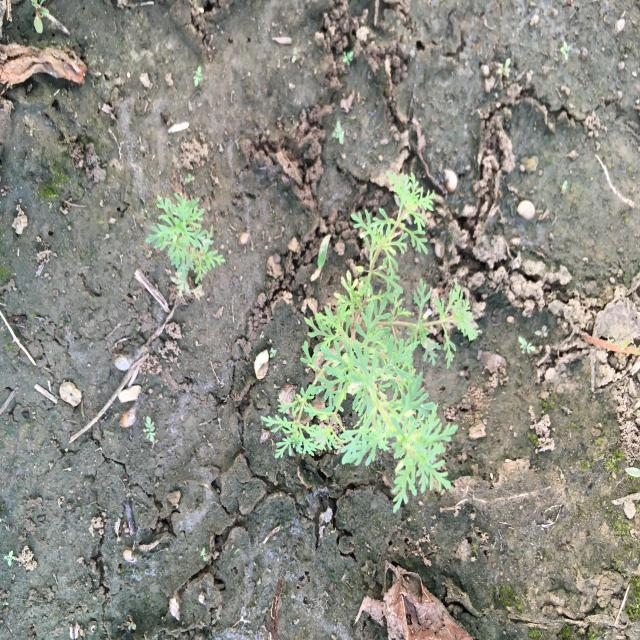Ragweed: (258, 170, 480, 514), (144, 190, 228, 300)
